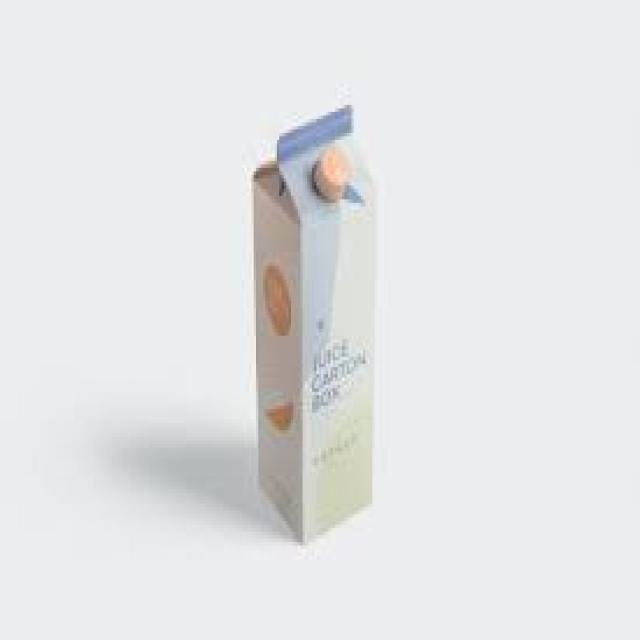non_white_jug: (240, 117, 384, 551)
